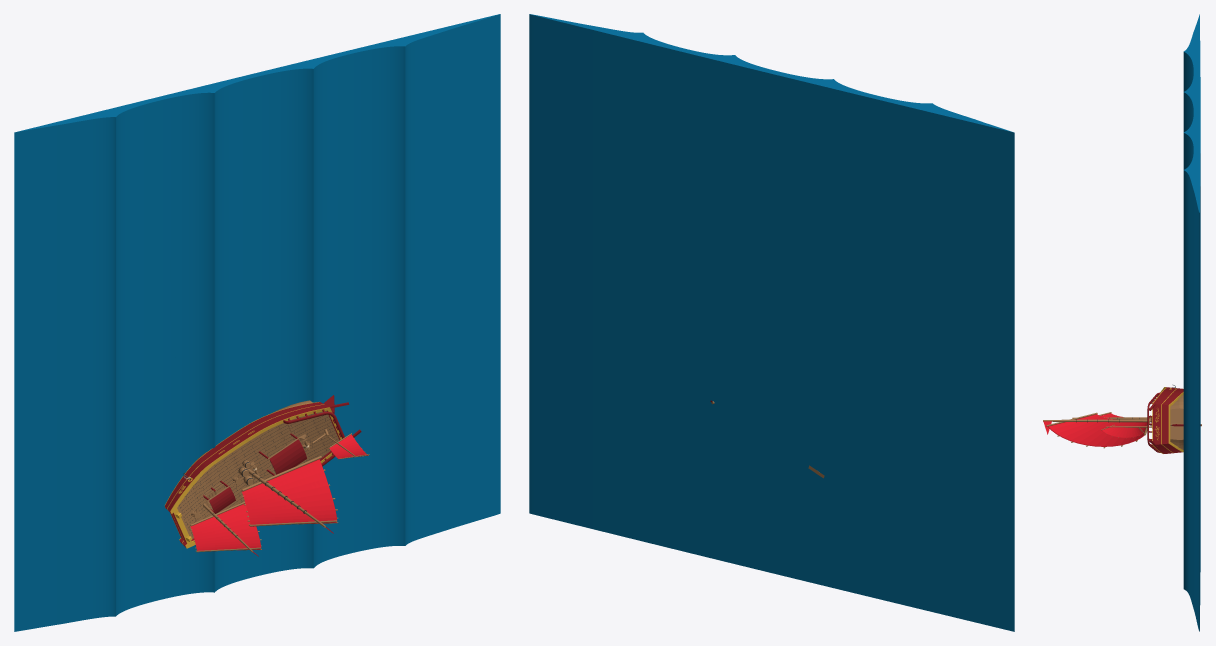
File: tinker.obj
The picture shows the model from 3 angles, left to right: view 1: azimuth 30°, elevation 25°; view 2: azimuth 150°, elevation 25°; view 3: azimuth 270°, elevation 25°; orthographic projection. The views are drawn at different scales.
Parts seen in each view (by area): view 1: obj_48, obj_24, obj_3, obj_36, obj_4, obj_6; view 2: obj_48; view 3: obj_48, obj_3, obj_36, obj_47, obj_5, obj_0.
Boxes of the visible parts, box(x1,y1,x2,y2) form: obj_48: box(14, 14, 500, 631); obj_24: box(177, 411, 339, 538); obj_3: box(241, 456, 338, 526); obj_36: box(164, 402, 342, 548); obj_4: box(190, 501, 261, 552); obj_6: box(269, 439, 306, 474); obj_48: box(529, 14, 1014, 631); obj_48: box(1183, 14, 1200, 631); obj_3: box(1046, 412, 1151, 448); obj_36: box(1152, 387, 1183, 453); obj_47: box(1170, 394, 1183, 449); obj_5: box(1101, 424, 1143, 437); obj_0: box(1043, 419, 1151, 422).
Size of the model in its own units: 308 by 303 by 104.
